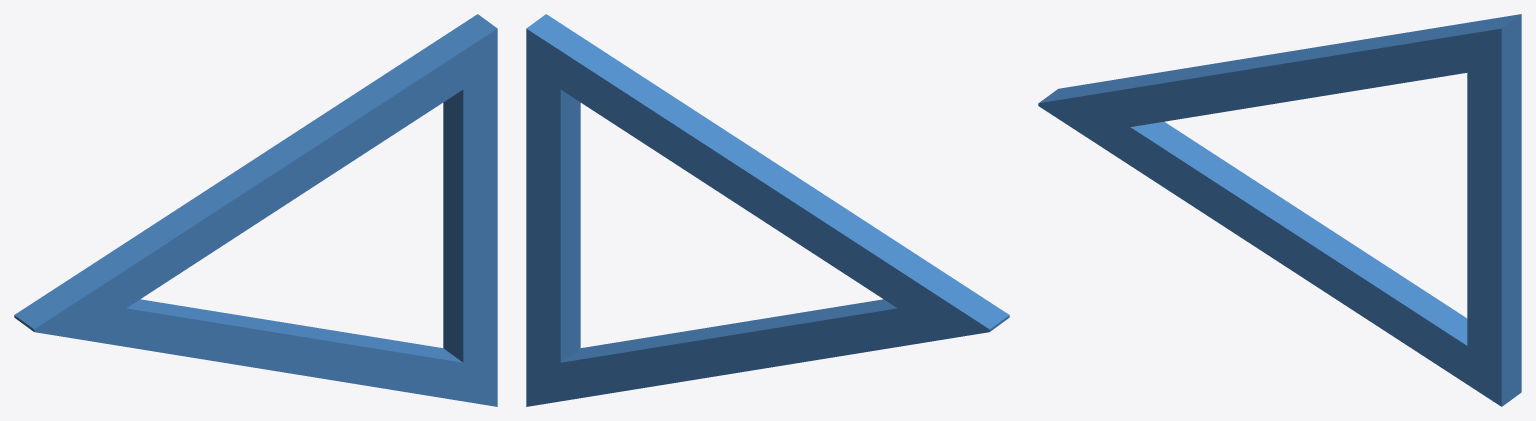
The picture shows the model from 3 angles, left to right: view 1: azimuth 30°, elevation 25°; view 2: azimuth 150°, elevation 25°; view 3: azimuth 330°, elevation 25°; orthographic projection.
Visible parts, largest first — view 1: node_e57475bc_a79e_48ed_92ea_b446b4090b22_mesh0; view 2: node_e57475bc_a79e_48ed_92ea_b446b4090b22_mesh0; view 3: node_e57475bc_a79e_48ed_92ea_b446b4090b22_mesh0.
Boxes of the visible parts, <box> form: node_e57475bc_a79e_48ed_92ea_b446b4090b22_mesh0: <box>14,14,497,406</box>; node_e57475bc_a79e_48ed_92ea_b446b4090b22_mesh0: <box>526,14,1009,406</box>; node_e57475bc_a79e_48ed_92ea_b446b4090b22_mesh0: <box>1038,14,1521,406</box>.
Bounding box in the file's own units: 135 × 105 × 10.
